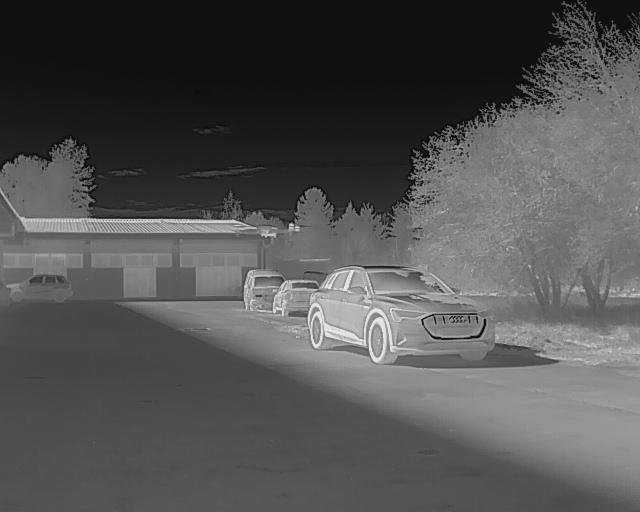drone: (225, 209, 315, 251)
